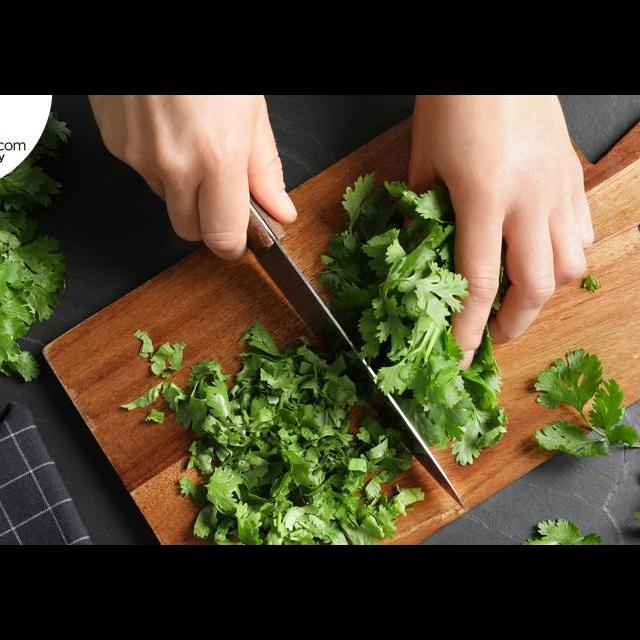cilantro: (119, 320, 425, 543), (315, 171, 509, 466), (0, 109, 70, 410), (531, 347, 640, 459)
